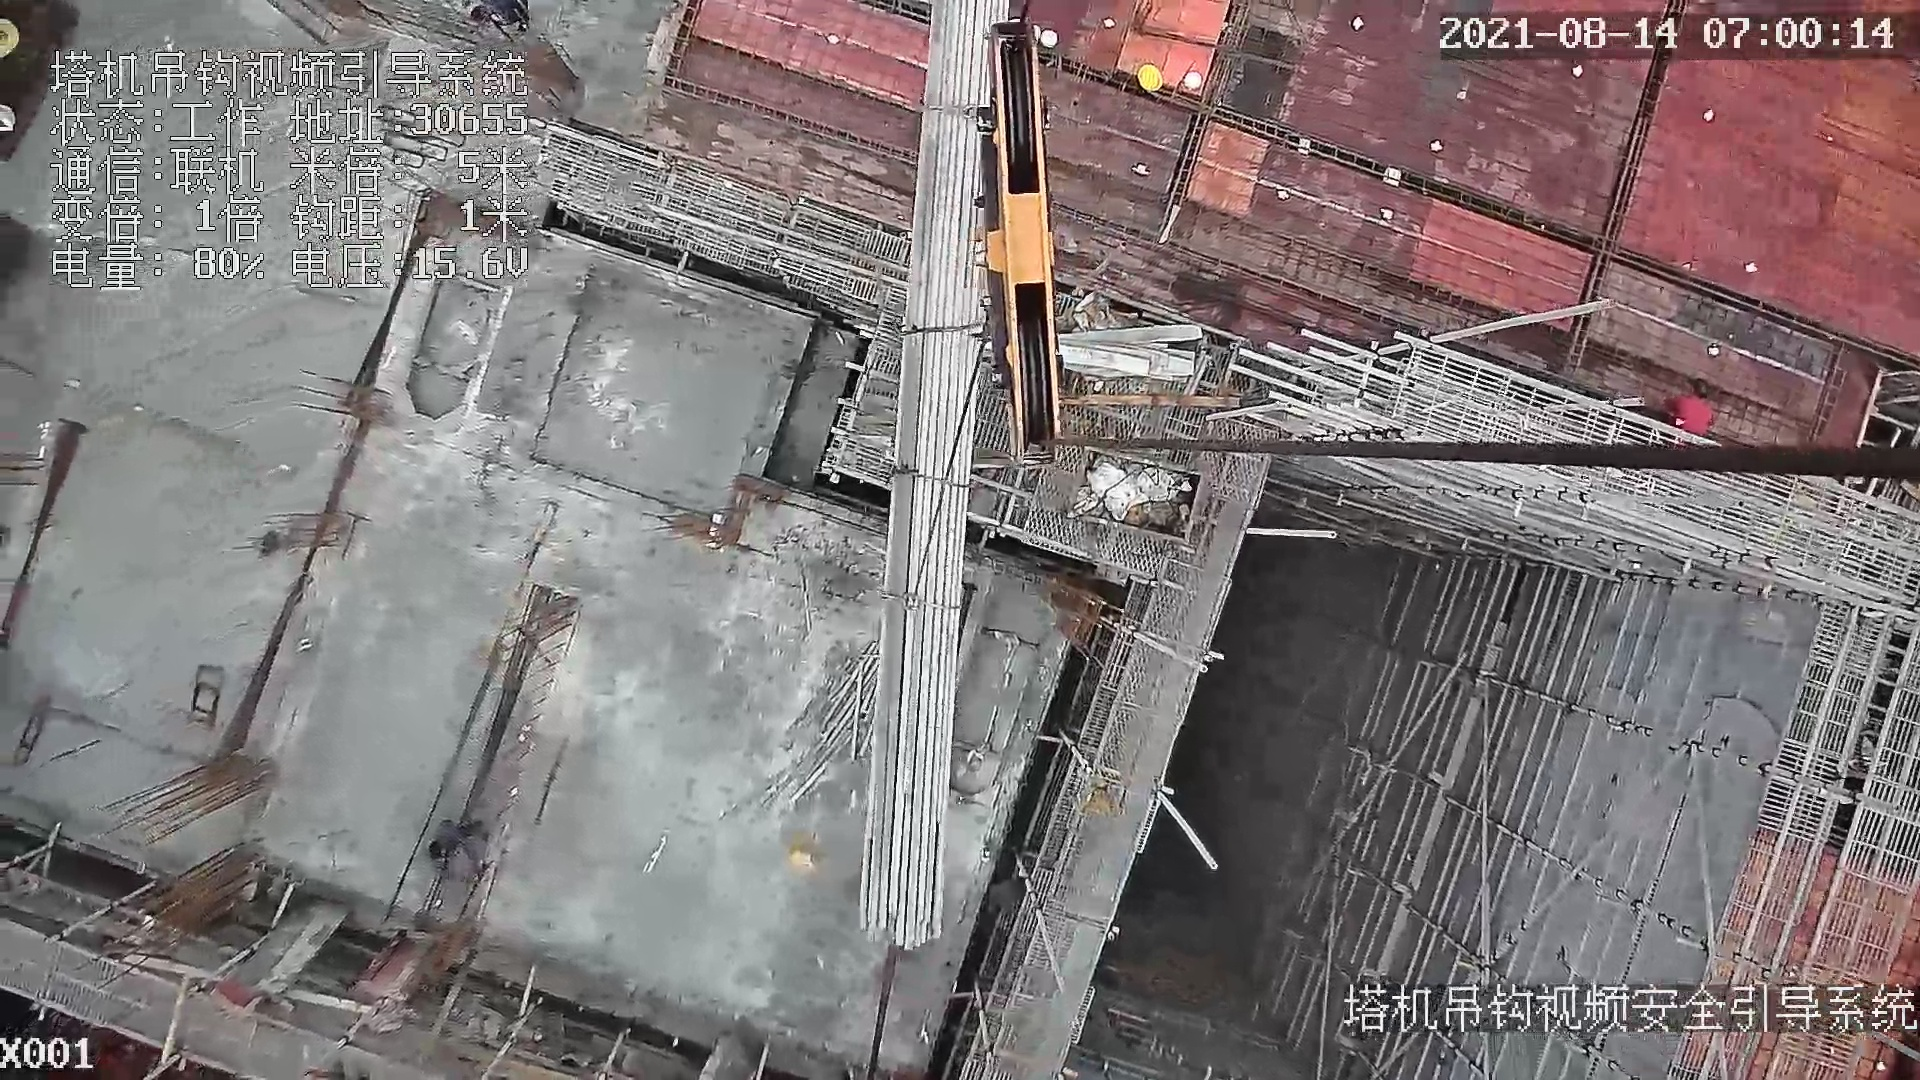helmet: (1137, 64, 1163, 91)
hook: (960, 14, 1072, 471)
person: (427, 817, 492, 883), (1674, 367, 1713, 433)
rebar: (847, 1, 1007, 954)
